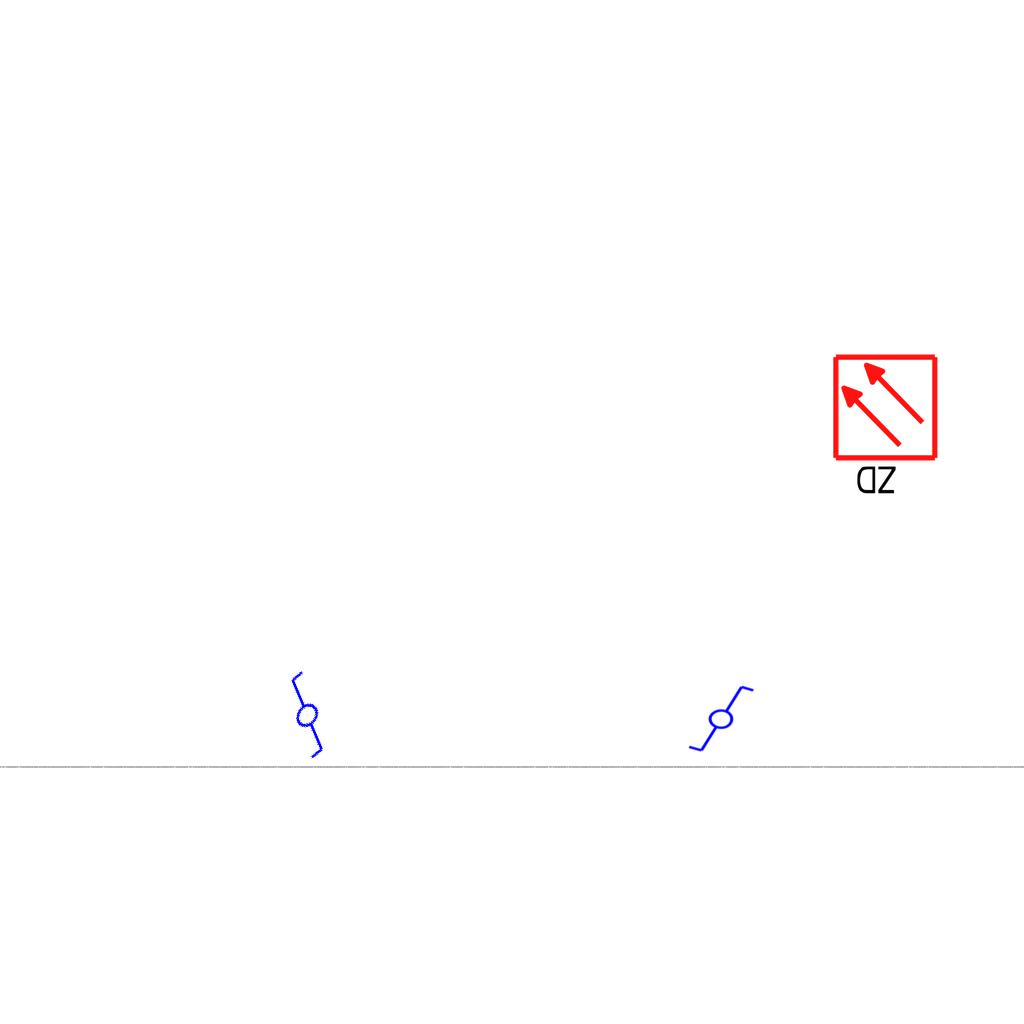Wechselschalter: (252, 665, 356, 771), (678, 682, 756, 754)
ZD_Melder_in_Zwischendecke_mit_Revisionsoeffnung_mind_40_x_40_cm: (830, 352, 944, 501)
